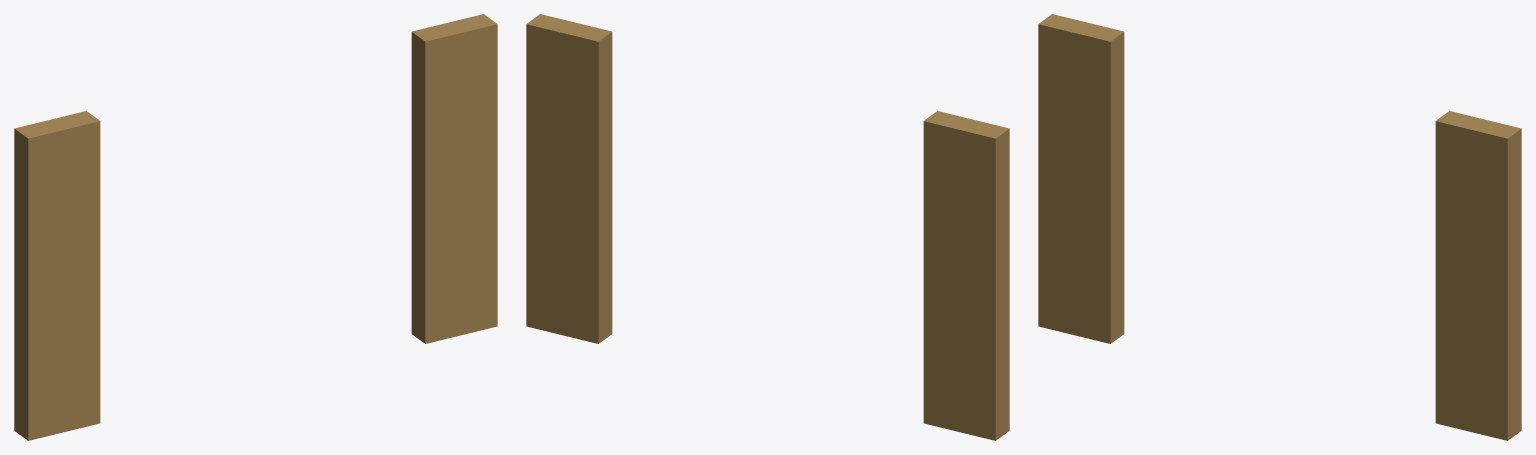
Rendered from fense_gate.gltf.
3 views of the same model, side by side, from view 1: azimuth 30°, elevation 25°; view 2: azimuth 150°, elevation 25°; view 3: azimuth 330°, elevation 25° (orthographic).
Bounding box in the file's own units: 2.44 × 1.5 × 0.125.
1 material, 1 textured.
